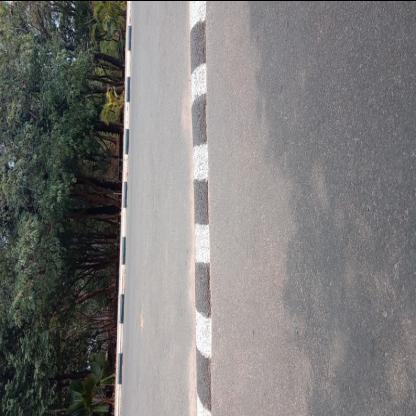speed-bumps: (184, 1, 221, 415)
